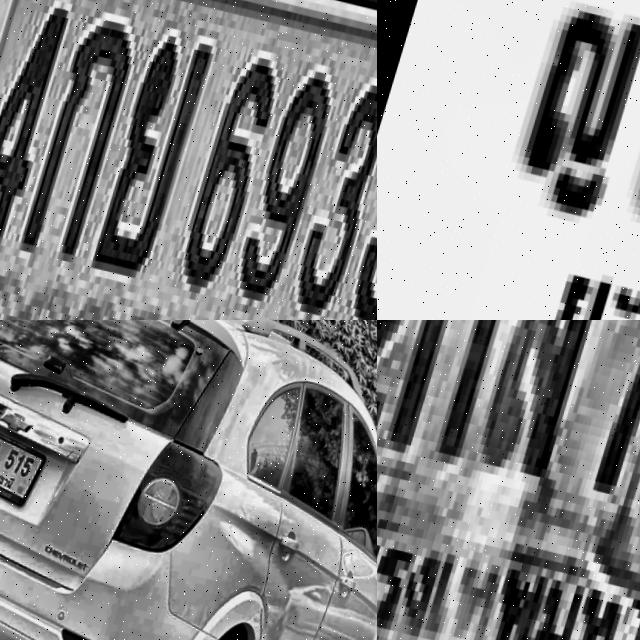license-plate: (0, 0, 377, 320), (377, 0, 640, 320), (377, 320, 640, 640), (0, 417, 61, 509)
